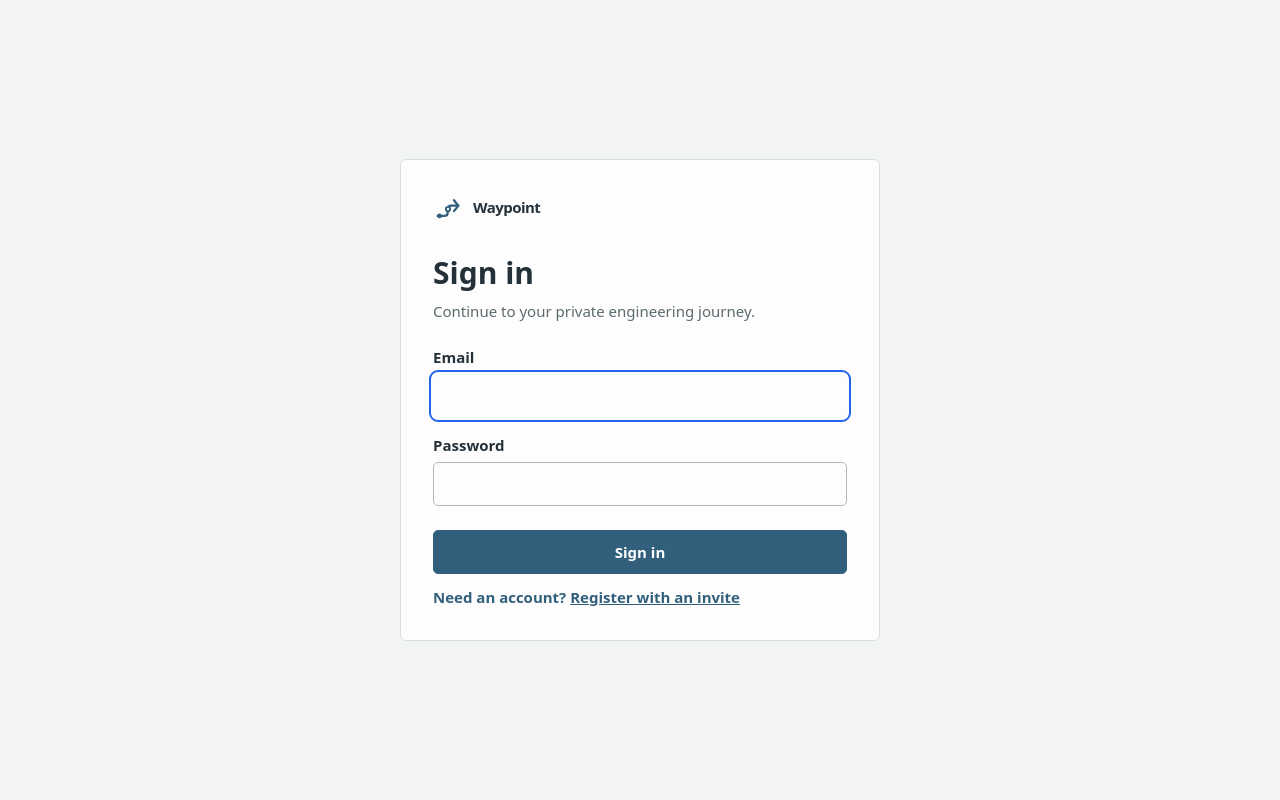
Test case: authentication checkpoint › reveals the authenticator field only after an enabled account verifies its password
The image size is (1280, 800).
Type "owner@example.test" into the field labelled "Email". click: [640, 396]
box: x1=433 y1=374 x2=847 y2=418
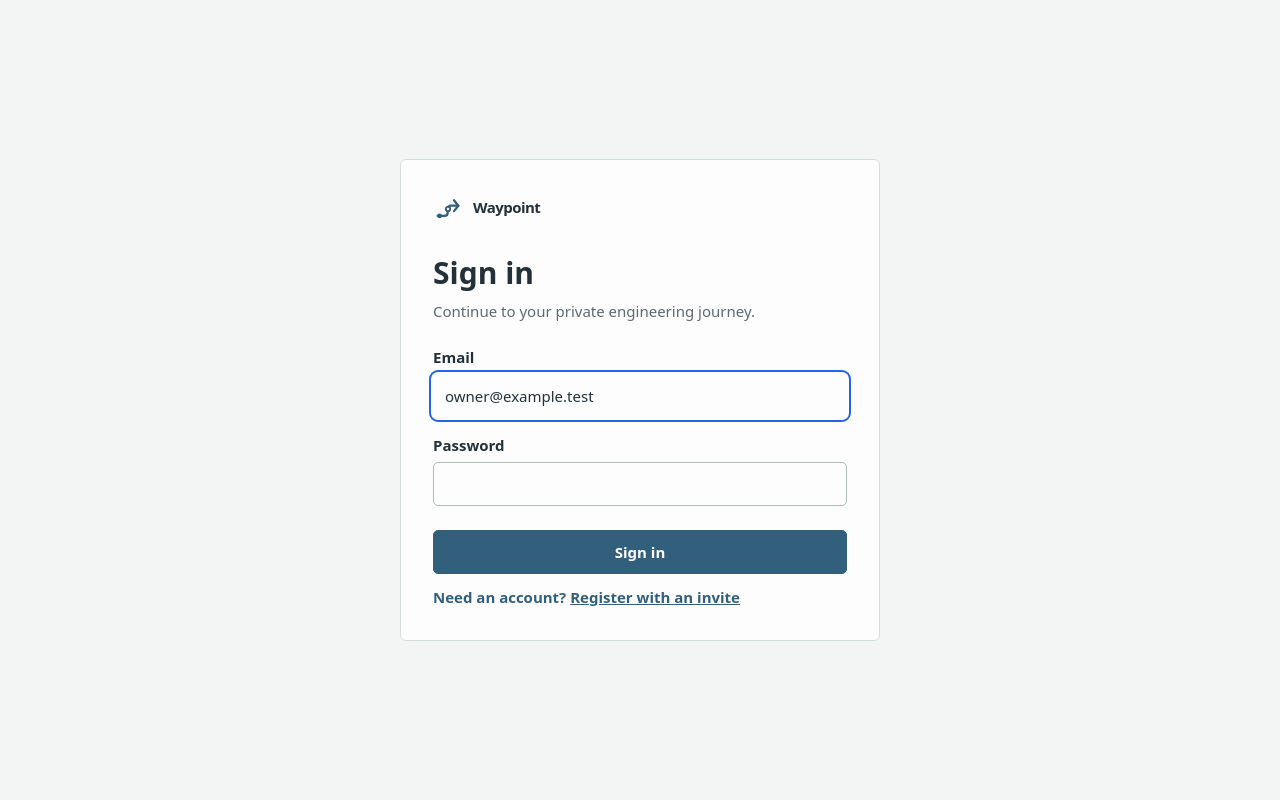
Type "a long passphrase" into the password field labelled "Password". click: [640, 484]
box: x1=433 y1=462 x2=847 y2=506
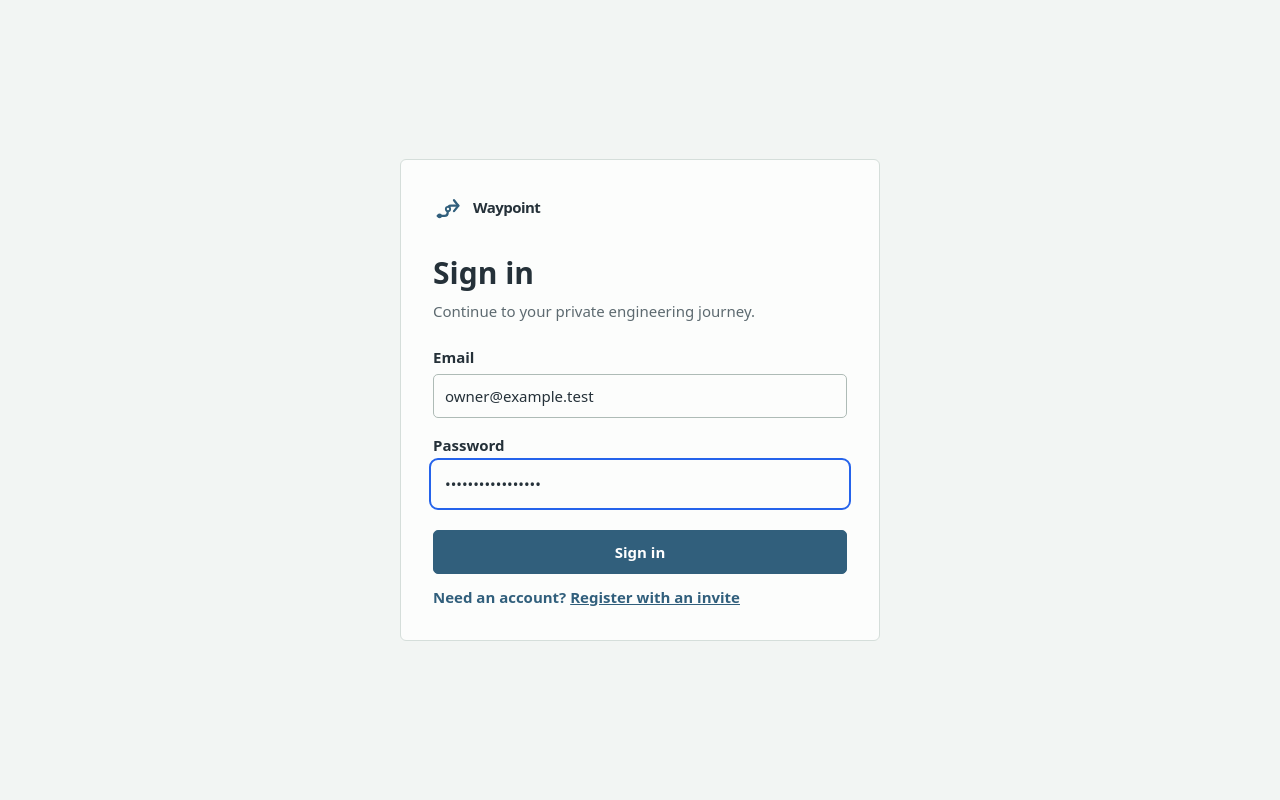
Expected: the field labelled "Authenticator code" is not shown
Click the button "Sign in". click: [640, 552]
box: x1=433 y1=530 x2=847 y2=574
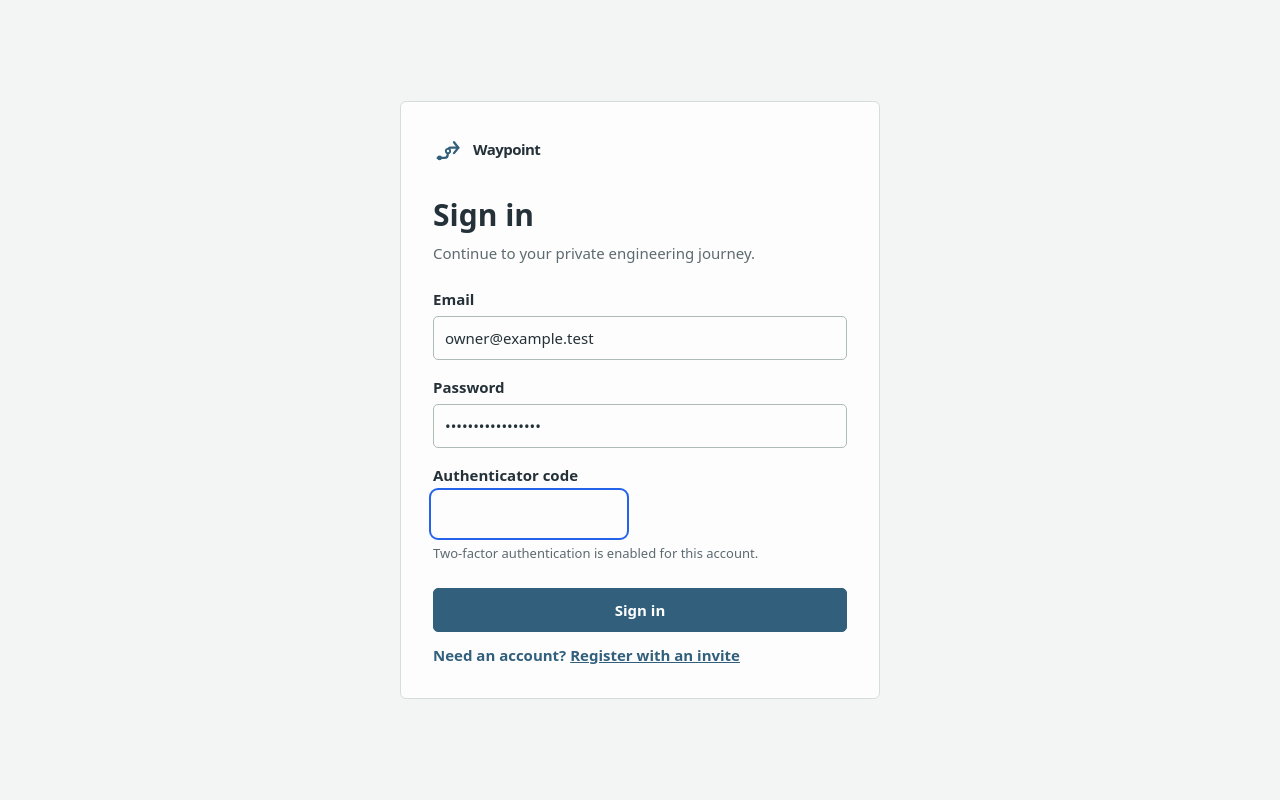
Type "123456" into the field labelled "Authenticator code". click: [529, 514]
box: x1=433 y1=492 x2=625 y2=536
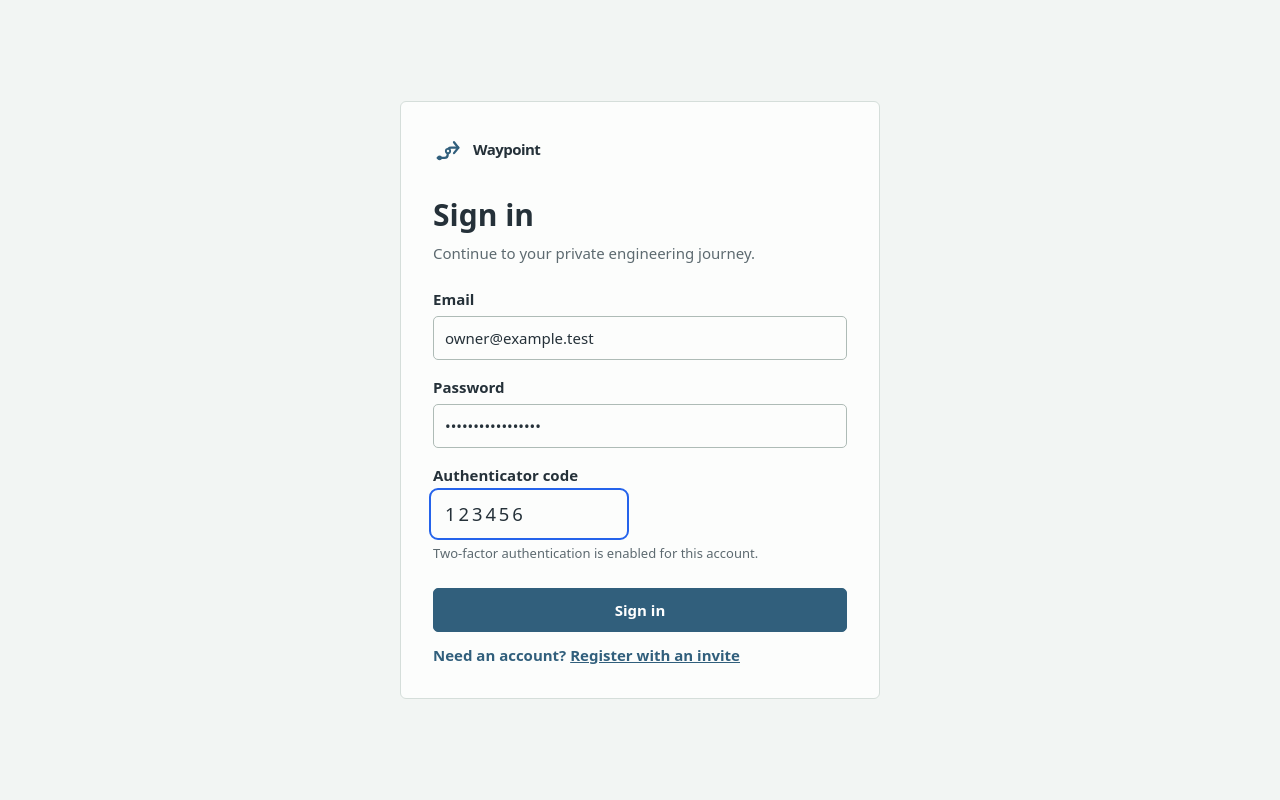
Click the button "Sign in". click: [640, 610]
box: x1=433 y1=588 x2=847 y2=632
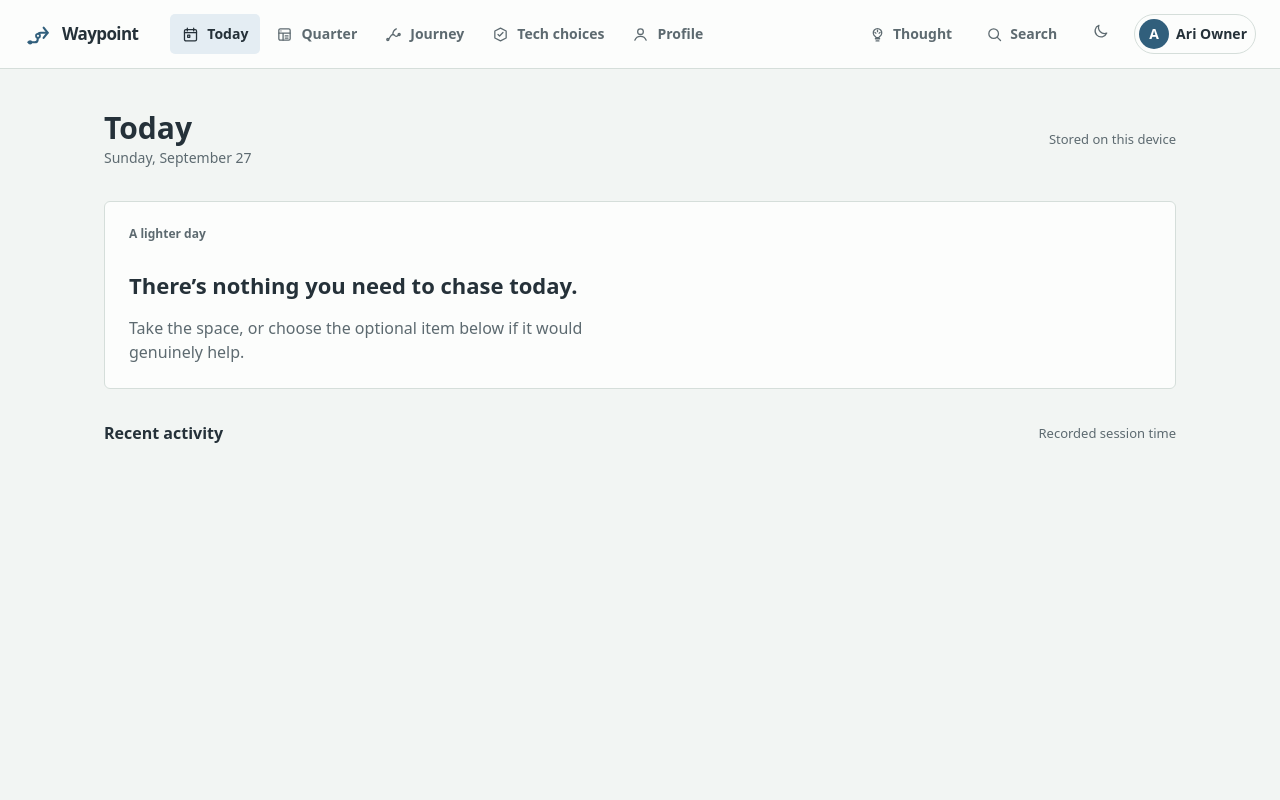
Expected: the button "A Ari Owner" is shown, x1=1134 y1=14 x2=1256 y2=54
